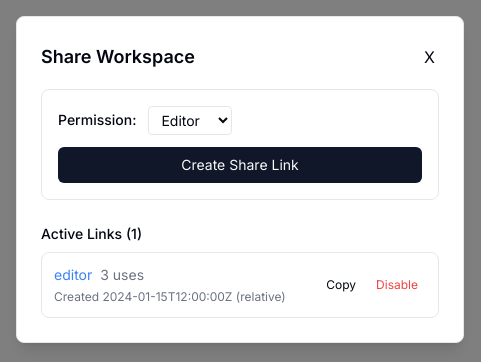
it: ShareModal › shows Copied feedback when Copy button is clicked
Click the button "Copy" at coordinates (341, 284), box x1=318 y1=272 x2=364 y2=296
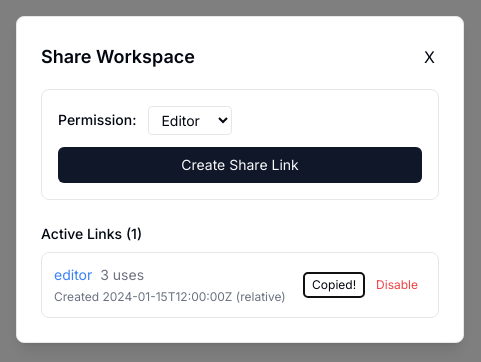
expect the button "Copied!" is shown: met, box x1=304 y1=272 x2=364 y2=296
